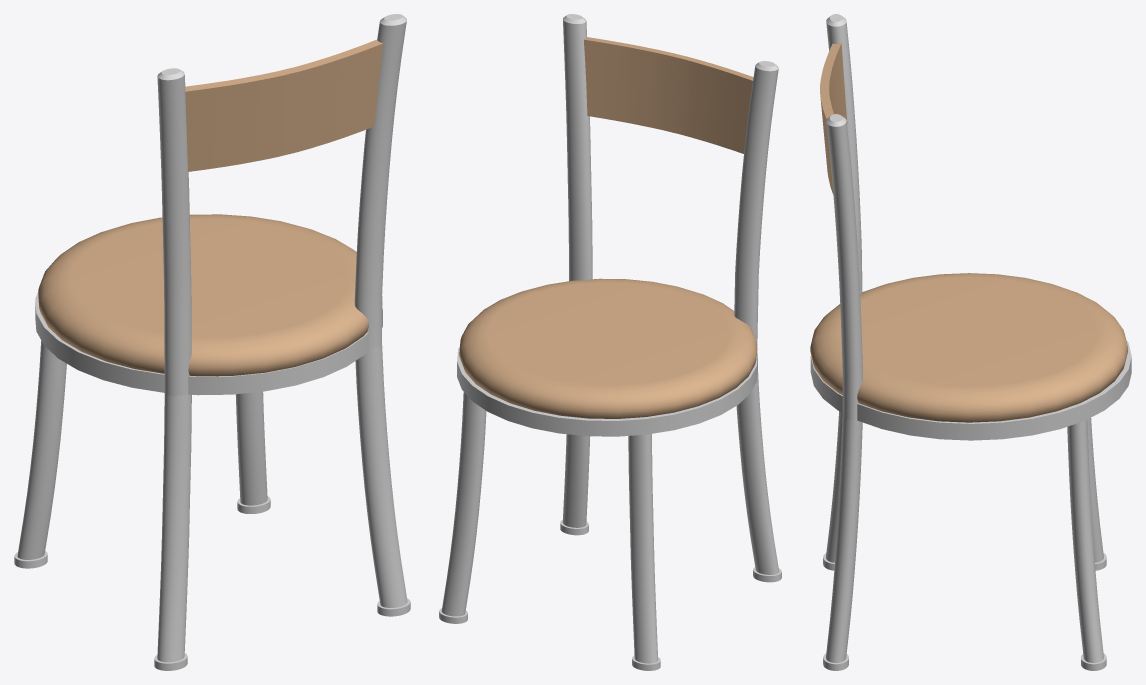
Rendered from Chaise4_7.fbx.
3 renders of one model, left to right at view 1: azimuth 30°, elevation 25°; view 2: azimuth 150°, elevation 25°; view 3: azimuth 270°, elevation 25°, orthographic. The views are drawn at different scales.
Parts seen in each view (by area): view 1: pCylinder1681, pCube2685, pCylinder1674, pCylinder1675, pCylinder1678, pCylinder1677, pCylinder1680, pCylinder1673, pCylinder1676; view 2: pCylinder1681, pCube2685, pCylinder1674, pCylinder1675, pCylinder1680, pCylinder1673, pCylinder1676, pCylinder1678, pCylinder1677; view 3: pCylinder1681, pCylinder1675, pCylinder1680, pCylinder1677, pCylinder1676, pCylinder1674, pCube2685, pCylinder1678, pCylinder1673.
Boxes of the visible parts, x1=… form: pCylinder1681: x1=38, y1=214, x2=382, y2=376; pCube2685: x1=185, y1=39, x2=383, y2=171; pCylinder1674: x1=157, y1=68, x2=191, y2=395; pCylinder1675: x1=354, y1=14, x2=406, y2=349; pCylinder1678: x1=154, y1=393, x2=191, y2=670; pCylinder1677: x1=355, y1=344, x2=410, y2=616; pCylinder1680: x1=35, y1=291, x2=382, y2=395; pCylinder1673: x1=14, y1=340, x2=66, y2=568; pCylinder1676: x1=235, y1=391, x2=270, y2=513; pCylinder1681: x1=459, y1=278, x2=757, y2=418; pCube2685: x1=584, y1=37, x2=753, y2=153; pCylinder1674: x1=734, y1=61, x2=778, y2=343; pCylinder1675: x1=563, y1=14, x2=592, y2=281; pCylinder1680: x1=457, y1=346, x2=757, y2=436; pCylinder1673: x1=628, y1=434, x2=660, y2=670; pCylinder1676: x1=439, y1=392, x2=486, y2=623; pCylinder1678: x1=736, y1=370, x2=781, y2=582; pCylinder1677: x1=560, y1=434, x2=590, y2=535; pCylinder1681: x1=810, y1=273, x2=1127, y2=422; pCylinder1675: x1=826, y1=114, x2=862, y2=419; pCylinder1680: x1=810, y1=340, x2=1131, y2=440; pCylinder1677: x1=823, y1=416, x2=862, y2=670; pCylinder1676: x1=1067, y1=420, x2=1106, y2=670; pCylinder1674: x1=826, y1=14, x2=862, y2=294; pCube2685: x1=820, y1=43, x2=847, y2=194; pCylinder1678: x1=823, y1=411, x2=842, y2=570; pCylinder1673: x1=1087, y1=417, x2=1106, y2=570.
Bounding box in the file's own units: 44.91 × 84.31 × 44.99.
